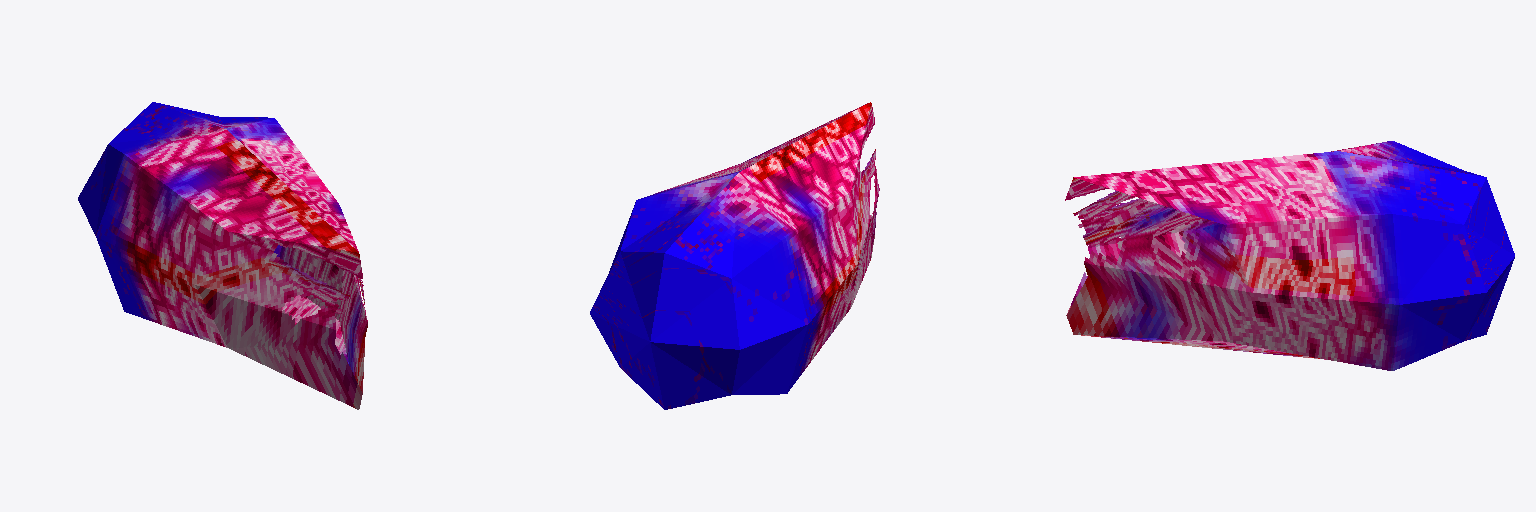
3 views of the same model, side by side, from view 1: azimuth 30°, elevation 25°; view 2: azimuth 150°, elevation 25°; view 3: azimuth 270°, elevation 25° (orthographic).
Visible parts, largest first — view 1: plasma_bullet; view 2: plasma_bullet; view 3: plasma_bullet.
Part boxes in pixels (left/top/right/bottom): plasma_bullet: left=78, top=102, right=367, bottom=409; plasma_bullet: left=590, top=102, right=879, bottom=409; plasma_bullet: left=1065, top=141, right=1514, bottom=370.
Bounding box in the file's own units: 2.63 × 2.63 × 5.34.
1 materials, 1 textured.